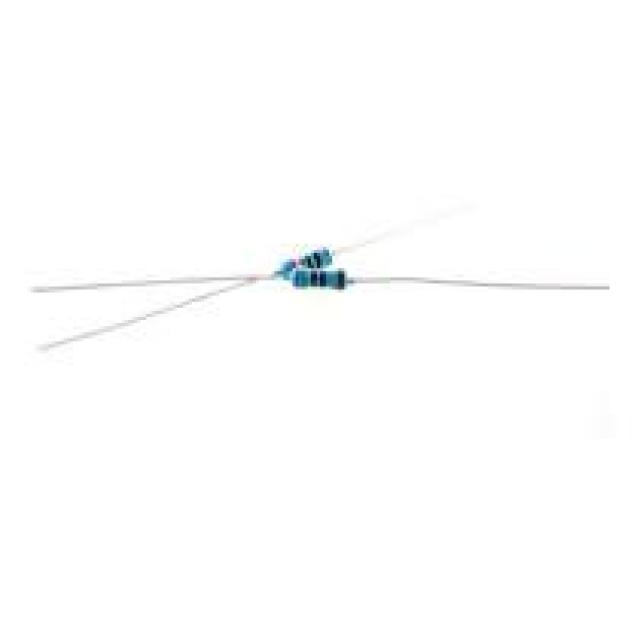Resistor: (275, 245, 345, 290)
